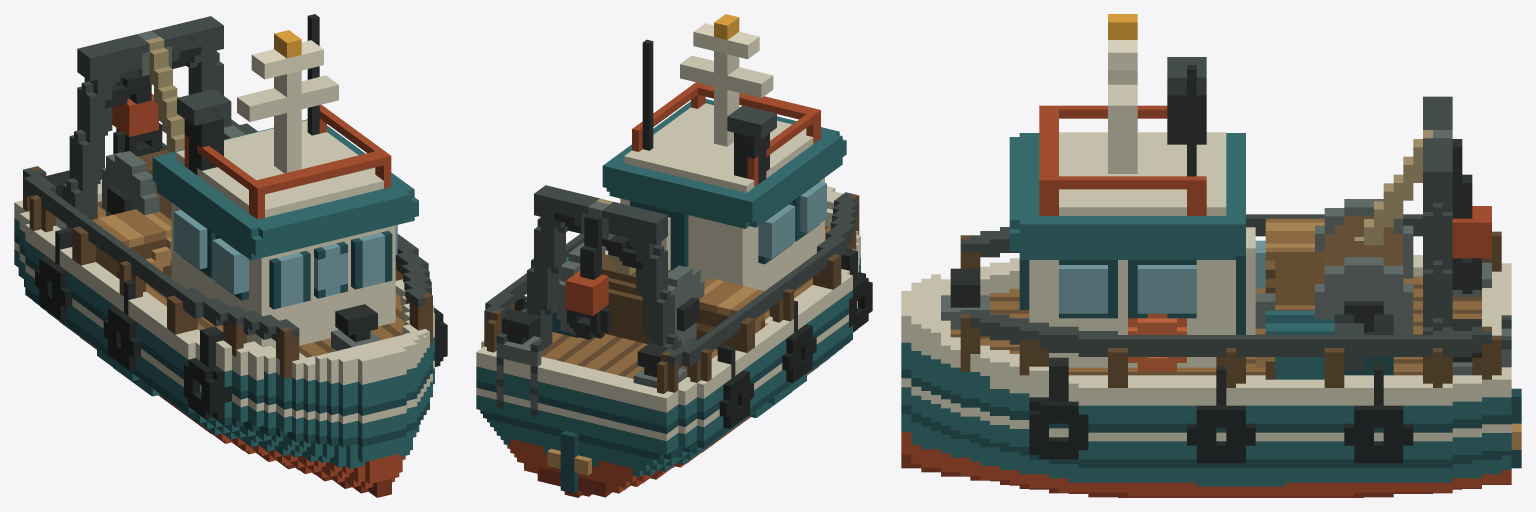
The model's file is fishing_boat.glb.
3 renders of one model, left to right at view 1: azimuth 30°, elevation 25°; view 2: azimuth 150°, elevation 25°; view 3: azimuth 270°, elevation 25°, orthographic. The views are drawn at different scales.
Parts seen in each view (by area): view 1: fishing_boat; view 2: fishing_boat; view 3: fishing_boat.
Part boxes in pixels (left/top/right/bottom): fishing_boat: left=14, top=14, right=447, bottom=497; fishing_boat: left=476, top=14, right=872, bottom=497; fishing_boat: left=901, top=14, right=1521, bottom=497.
Size of the model in its own units: 4.08 by 6.24 by 7.56.
